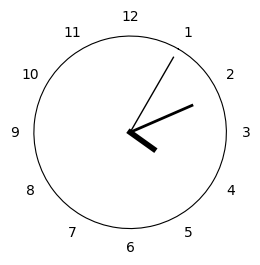12: (122, 9, 138, 23)
circle: (34, 36, 227, 228)
hours: (127, 129, 157, 152)
minutes: (133, 104, 193, 131)
seconds: (132, 56, 174, 129)
